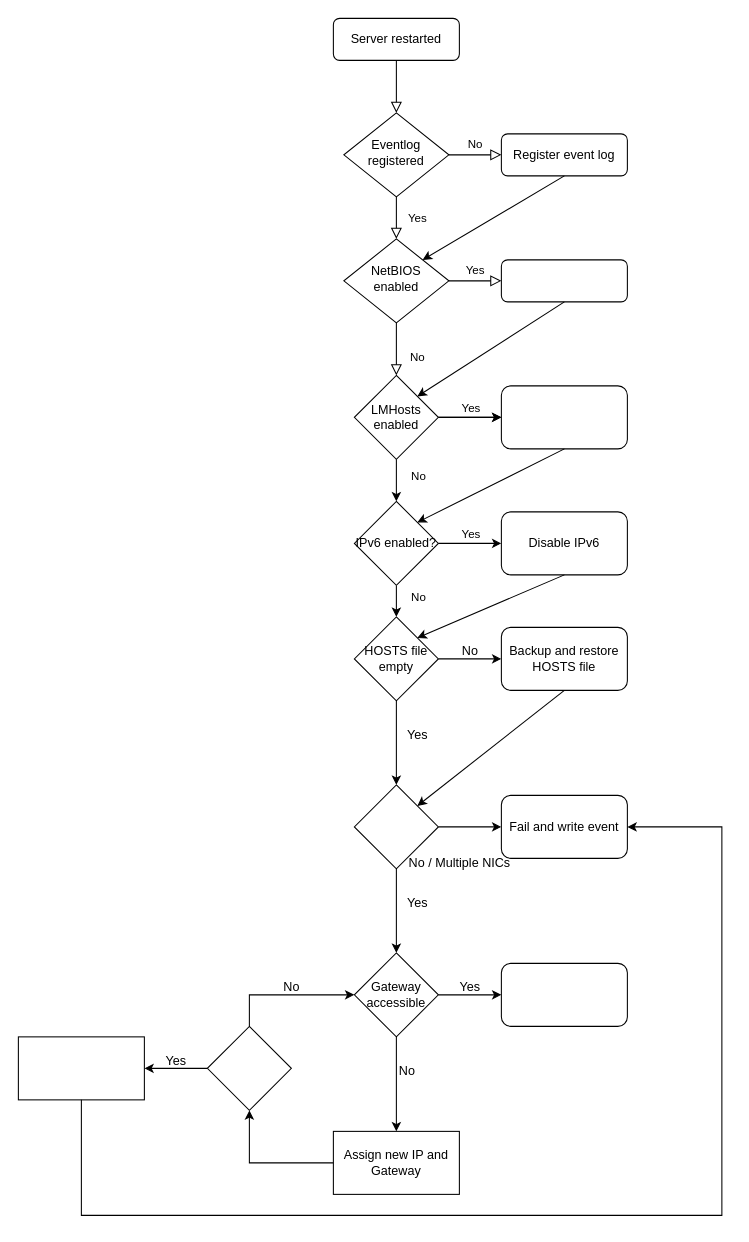
Image size: 749x1242. Some labels were removed from this diagram. Here are the shapes that lost their labels. From the top down, the centre of each, then its label:
the point at 563,280: Disable NetBIOS
the point at 563,417: Disable LMHosts
the point at 395,826: NIC with Gateway
the point at 563,994: Write event and complete
the point at 80,1068: Reset IP to original IP
the point at 248,1067: All IPs tested
